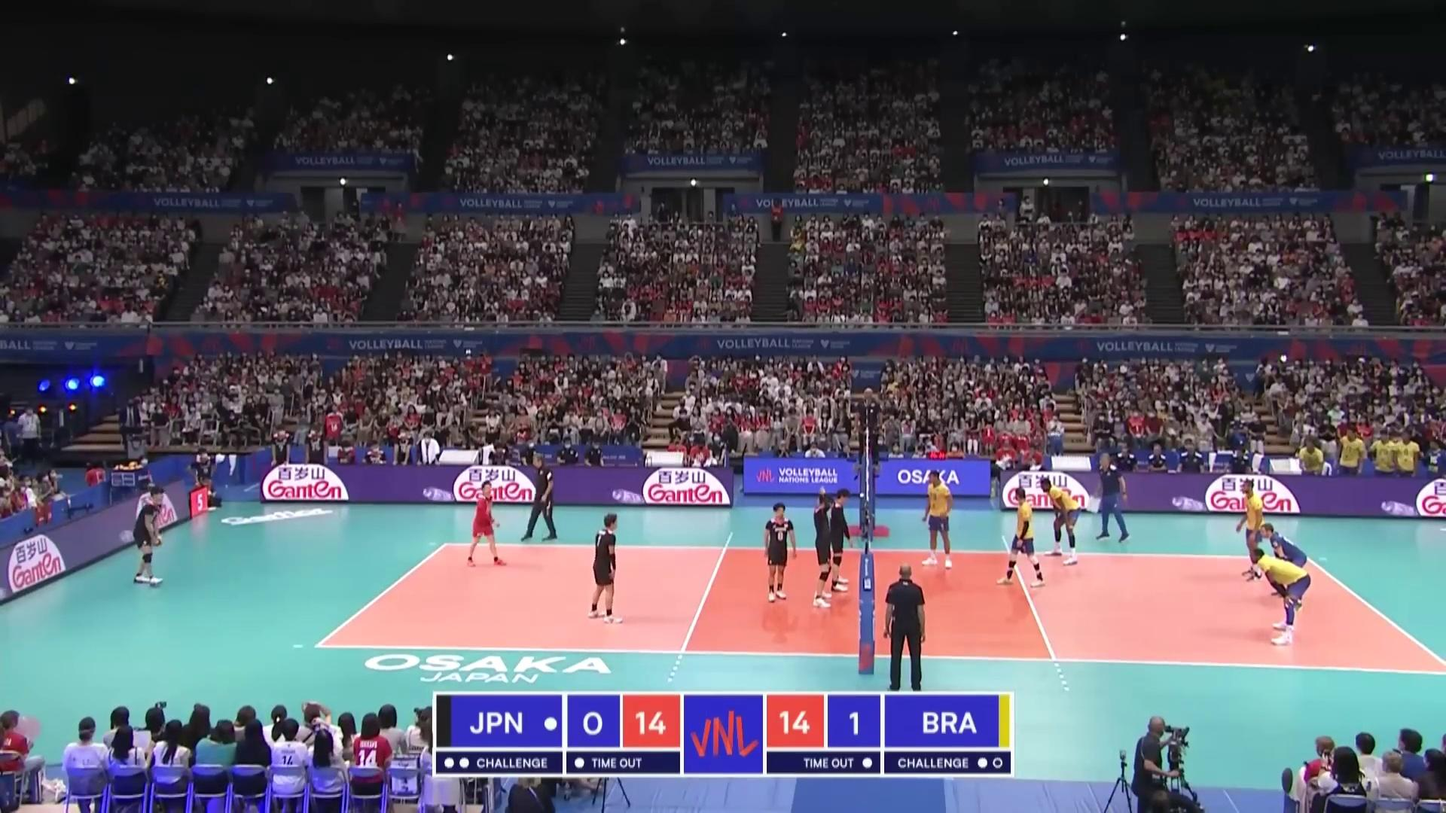player: (1249, 548, 1311, 648), (997, 488, 1045, 590), (127, 486, 167, 583), (1262, 524, 1307, 609), (589, 511, 622, 625), (1042, 477, 1082, 565), (465, 479, 504, 567), (765, 503, 799, 603), (921, 471, 955, 569), (1234, 481, 1265, 580), (811, 494, 834, 609), (827, 490, 852, 592)
refree: (885, 564, 927, 688), (855, 386, 884, 478)
